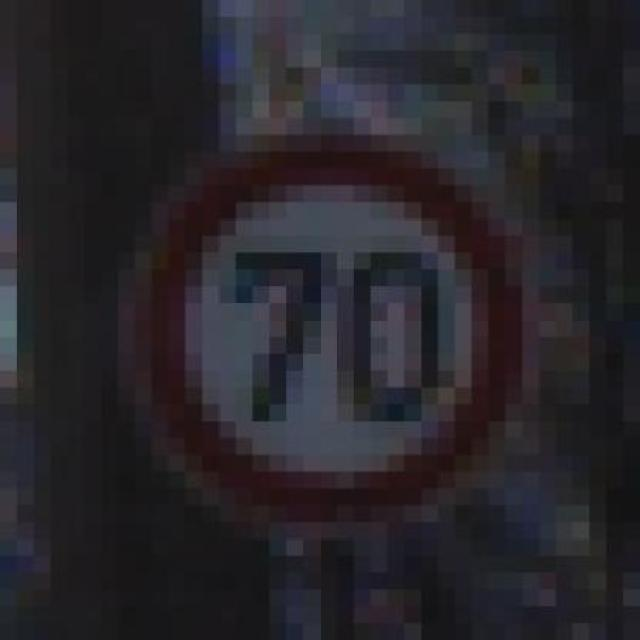forb_speed_over_70: (143, 135, 526, 517)
